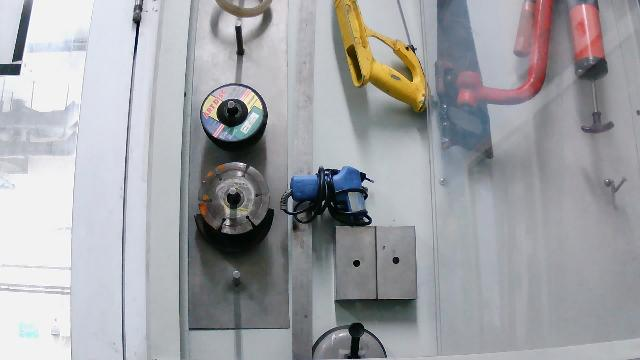solder_electrical: (277, 163, 377, 228)
